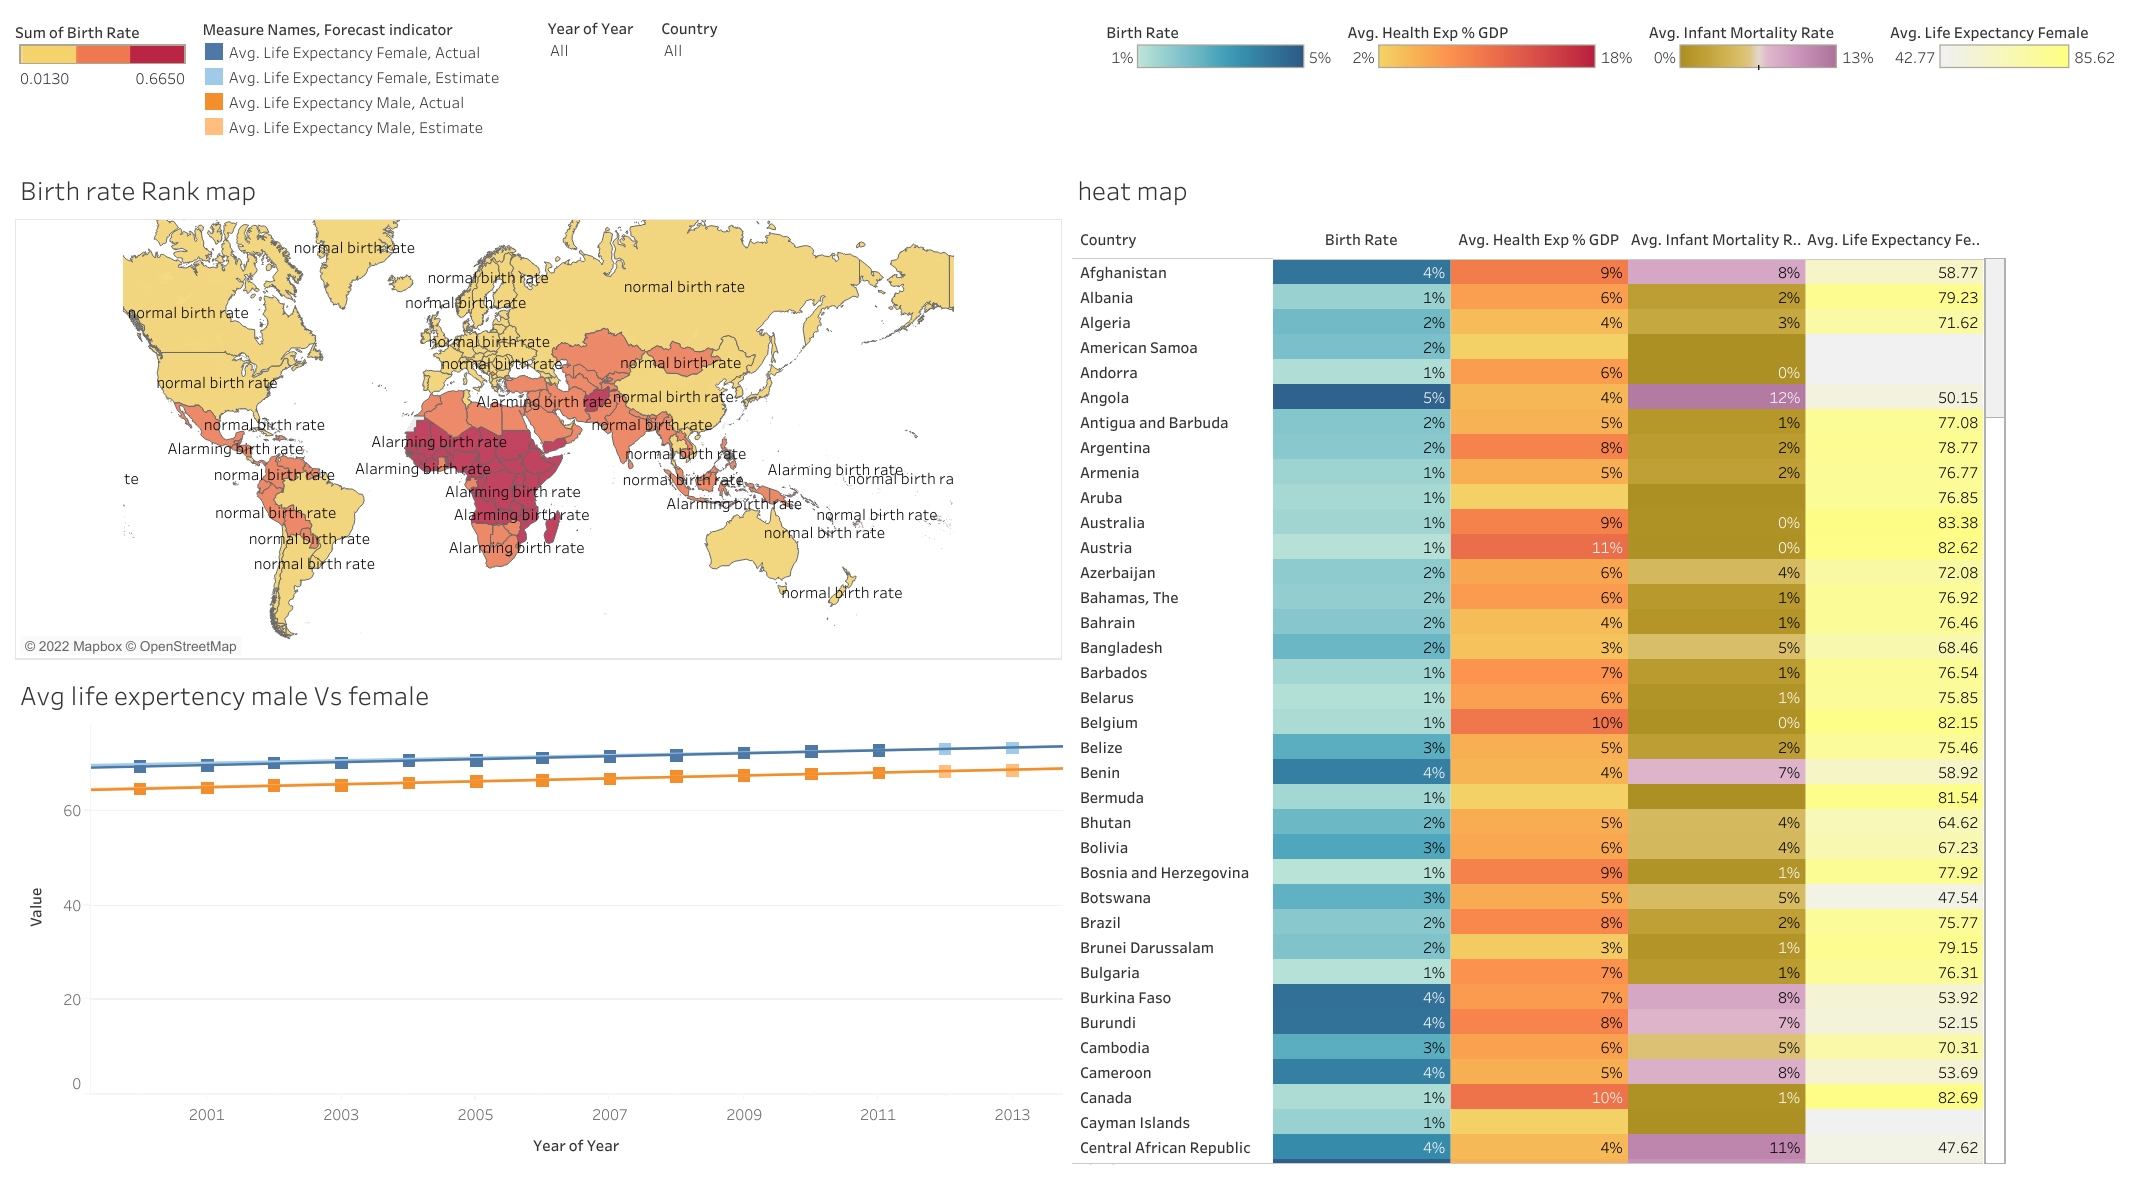

Layout of this report page (visuals, bound fields, positions):
{"tool":"tableau","page":{"name":"Health Dashboard","canvas":[1000,1000],"units":"permille","ordinal":2},"visuals":[{"type":"legend","title":"Birth rate Rank map","param":"[federated.09o5wgj136x1x513rge4v0e8uug5].[sum:Birth Rate:qk]","box":[5,9.3,76.9,126.6]},{"type":"legend","title":"Avg life expertency male Vs female","param":"[federated.09o5wgj136x1x513rge4v0e8uug5].[:Measure Names]\n[federated.09o5wgj136x","box":[81.9,9.3,171.8,126.6]},{"type":"filter","title":"Birth rate Rank map","param":"[federated.09o5wgj136x1x513rge4v0e8uug5].[yr:Year:ok]","box":[253.7,9.3,56.5,126.6]},{"type":"filter","title":"Birth rate Rank map","param":"[federated.09o5wgj136x1x513rge4v0e8uug5].[none:Country:nk]","box":[310.2,9.3,76.9,126.6]},{"type":"blank","box":[387.1,9.3,128.4,126.6]},{"type":"legend","title":"heat map","param":"[federated.09o5wgj136x1x513rge4v0e8uug5].[avg:Birth Rate:qk]","box":[515.5,9.3,110,126.6]},{"type":"legend","title":"heat map","param":"[federated.09o5wgj136x1x513rge4v0e8uug5].[avg:Health Exp % GDP:qk]","box":[625.5,9.3,149.5,126.6]},{"type":"legend","title":"heat map","param":"[federated.09o5wgj136x1x513rge4v0e8uug5].[avg:Infant Mortality Rate:qk]","box":[775,9.3,110,126.6]},{"type":"legend","title":"heat map","param":"[federated.09o5wgj136x1x513rge4v0e8uug5].[avg:Life Expectancy Female:qk]","box":[885,9.3,110,126.6]},{"type":"worksheet","title":"Birth rate Rank map","mark":"Multipolygon","box":[5,135.9,495,427.4]},{"type":"worksheet","title":"heat map","mark":"Square","rows":["Country"],"box":[500,135.9,495.1,854.8]},{"type":"worksheet","title":"Avg life expertency male Vs female","mark":"Square","cols":["Year"],"box":[5,563.3,495,427.4]}]}

Visuals, with their boxes on the dashboard's canvas, which has no fixed pixel size, in thousandths of its width and height (x1, y1, x2, y2). These are canvas units, not pixel positions in the 2135x1179 screenshot, which may show the page scaled, cropped or inside an application window:
"Birth rate Rank map" legend: 5,9,82,136
"Avg life expertency male Vs female" legend: 82,9,254,136
"Birth rate Rank map" filter: 254,9,310,136
"Birth rate Rank map" filter: 310,9,387,136
blank: 387,9,516,136
"heat map" legend: 516,9,626,136
"heat map" legend: 626,9,775,136
"heat map" legend: 775,9,885,136
"heat map" legend: 885,9,995,136
"Birth rate Rank map" worksheet (Multipolygon marks): 5,136,500,563
"heat map" worksheet (Square marks): 500,136,995,991
"Avg life expertency male Vs female" worksheet (Square marks): 5,563,500,991
